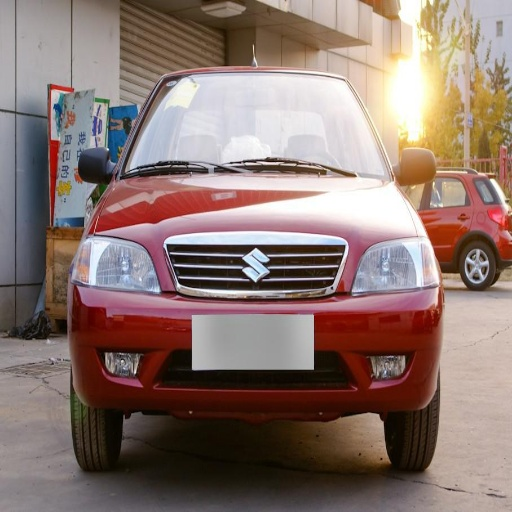front_bumper: (71, 283, 440, 421)
front_right_light: (74, 234, 162, 293)
hood: (92, 173, 416, 298)
left_mirror: (394, 146, 434, 183)
